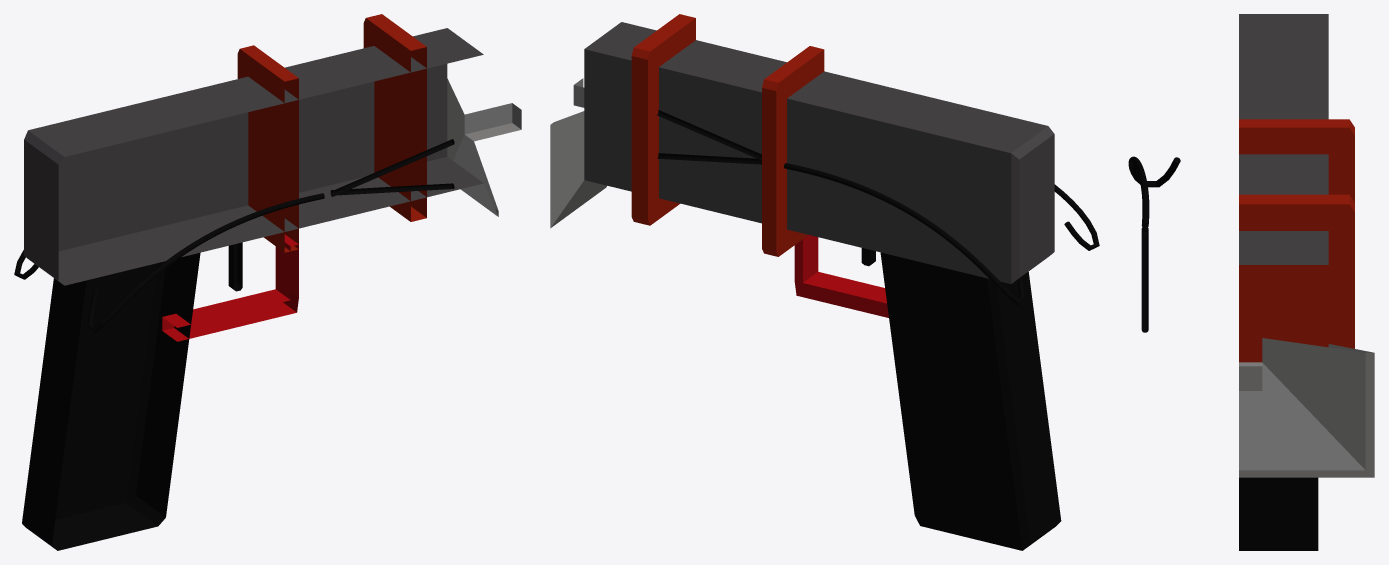
File: pew.glb
3 views of the same model, side by side, from view 1: azimuth 30°, elevation 25°; view 2: azimuth 150°, elevation 25°; view 3: azimuth 270°, elevation 25° (orthographic). The views are drawn at different scales.
Visible parts, largest first — view 1: Cube, Cube.003, Cube.005, Cube.001, Cube.004, Cylinder.001, Cube.002; view 2: Cube, Cube.003, Cube.005, Cube.004, Cylinder.001, Cube.001; view 3: Cube.005, Cube.004, Cube, Cube.003, Cylinder.001.
Boxes of the visible parts, <box> form: Cube: <box>24,28,483,285</box>; Cube.003: <box>22,252,200,550</box>; Cube.005: <box>237,14,426,252</box>; Cube.001: <box>162,234,298,341</box>; Cube.004: <box>447,78,521,216</box>; Cylinder.001: <box>14,139,454,333</box>; Cube.002: <box>228,242,242,291</box>; Cube: <box>584,22,1054,283</box>; Cube.003: <box>880,252,1061,550</box>; Cube.005: <box>631,14,824,256</box>; Cube.004: <box>550,78,606,228</box>; Cylinder.001: <box>657,110,1099,305</box>; Cube.001: <box>794,235,888,317</box>; Cube.005: <box>1239,119,1354,362</box>; Cube.004: <box>1239,338,1374,477</box>; Cube: <box>1239,14,1328,264</box>; Cube.003: <box>1239,477,1318,550</box>; Cylinder.001: <box>1128,156,1180,332</box>.
Size of the model in its own units: 4.36 by 3.67 by 1.61.
